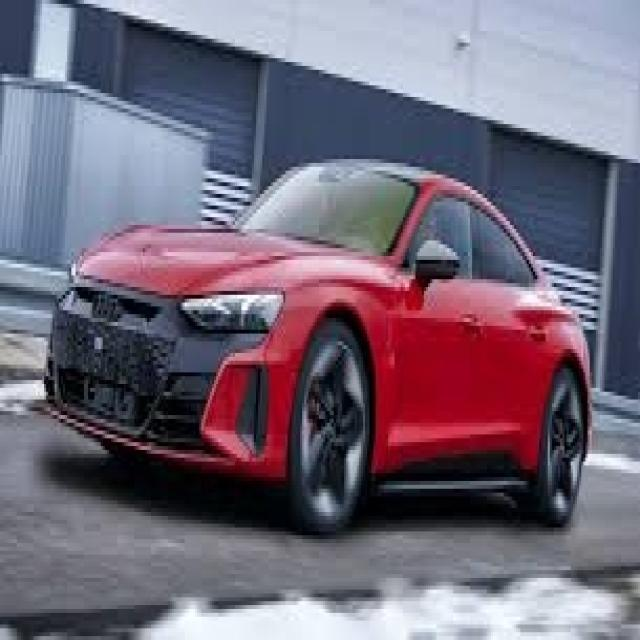red: (49, 160, 584, 528)
